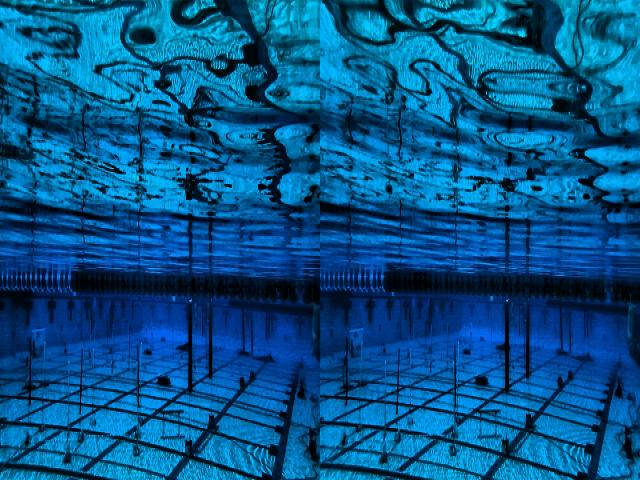gate: (504, 298, 530, 440), (188, 299, 212, 392), (560, 303, 572, 374), (241, 298, 253, 352)
path_marker: (158, 409, 184, 440), (476, 409, 502, 440)
